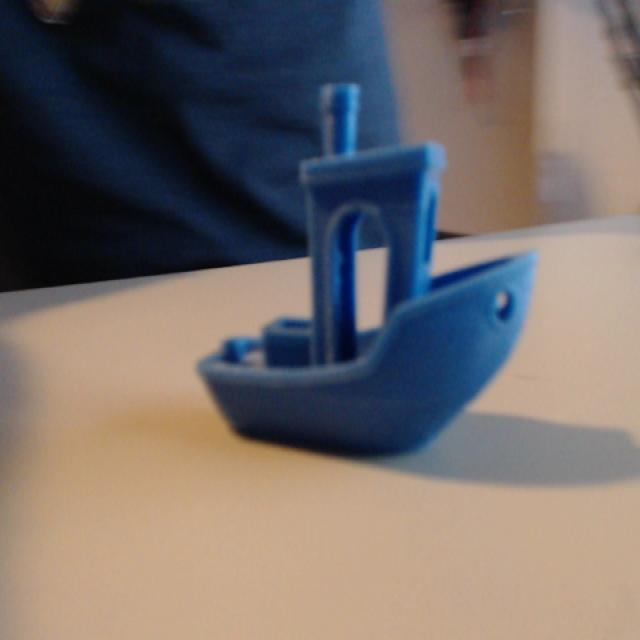benchy: (193, 78, 539, 462)
